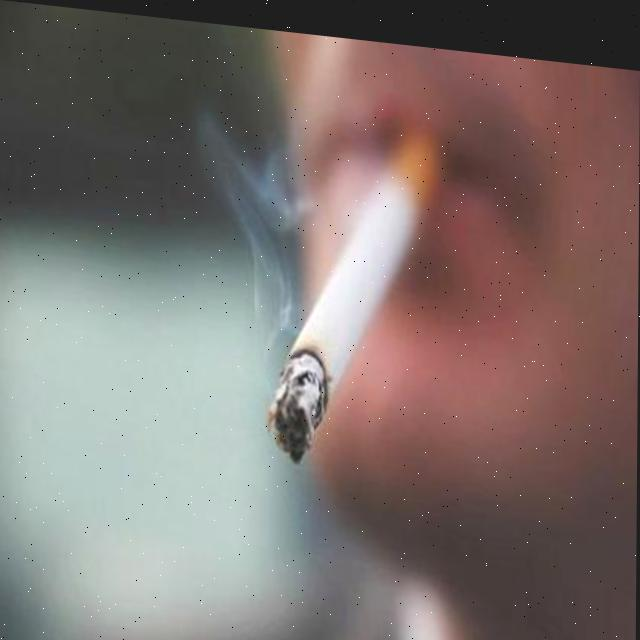cigarette: (267, 115, 445, 478)
